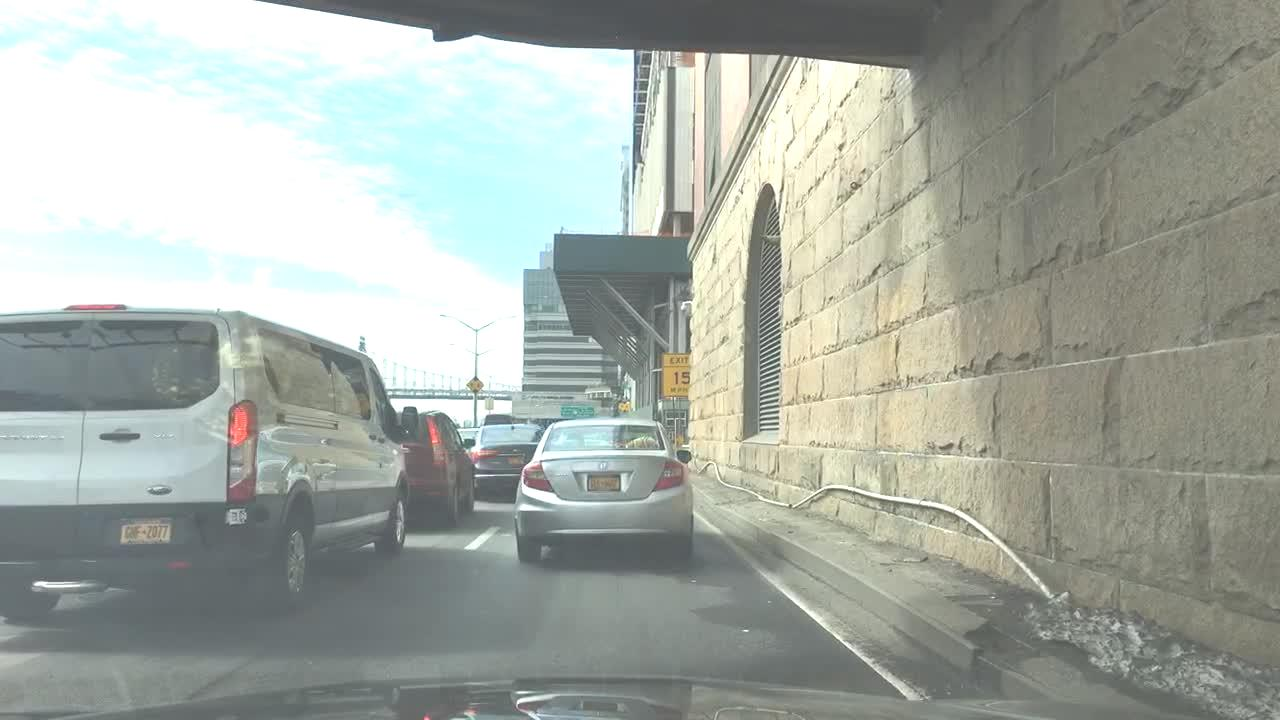ford: (146, 485, 172, 495)
